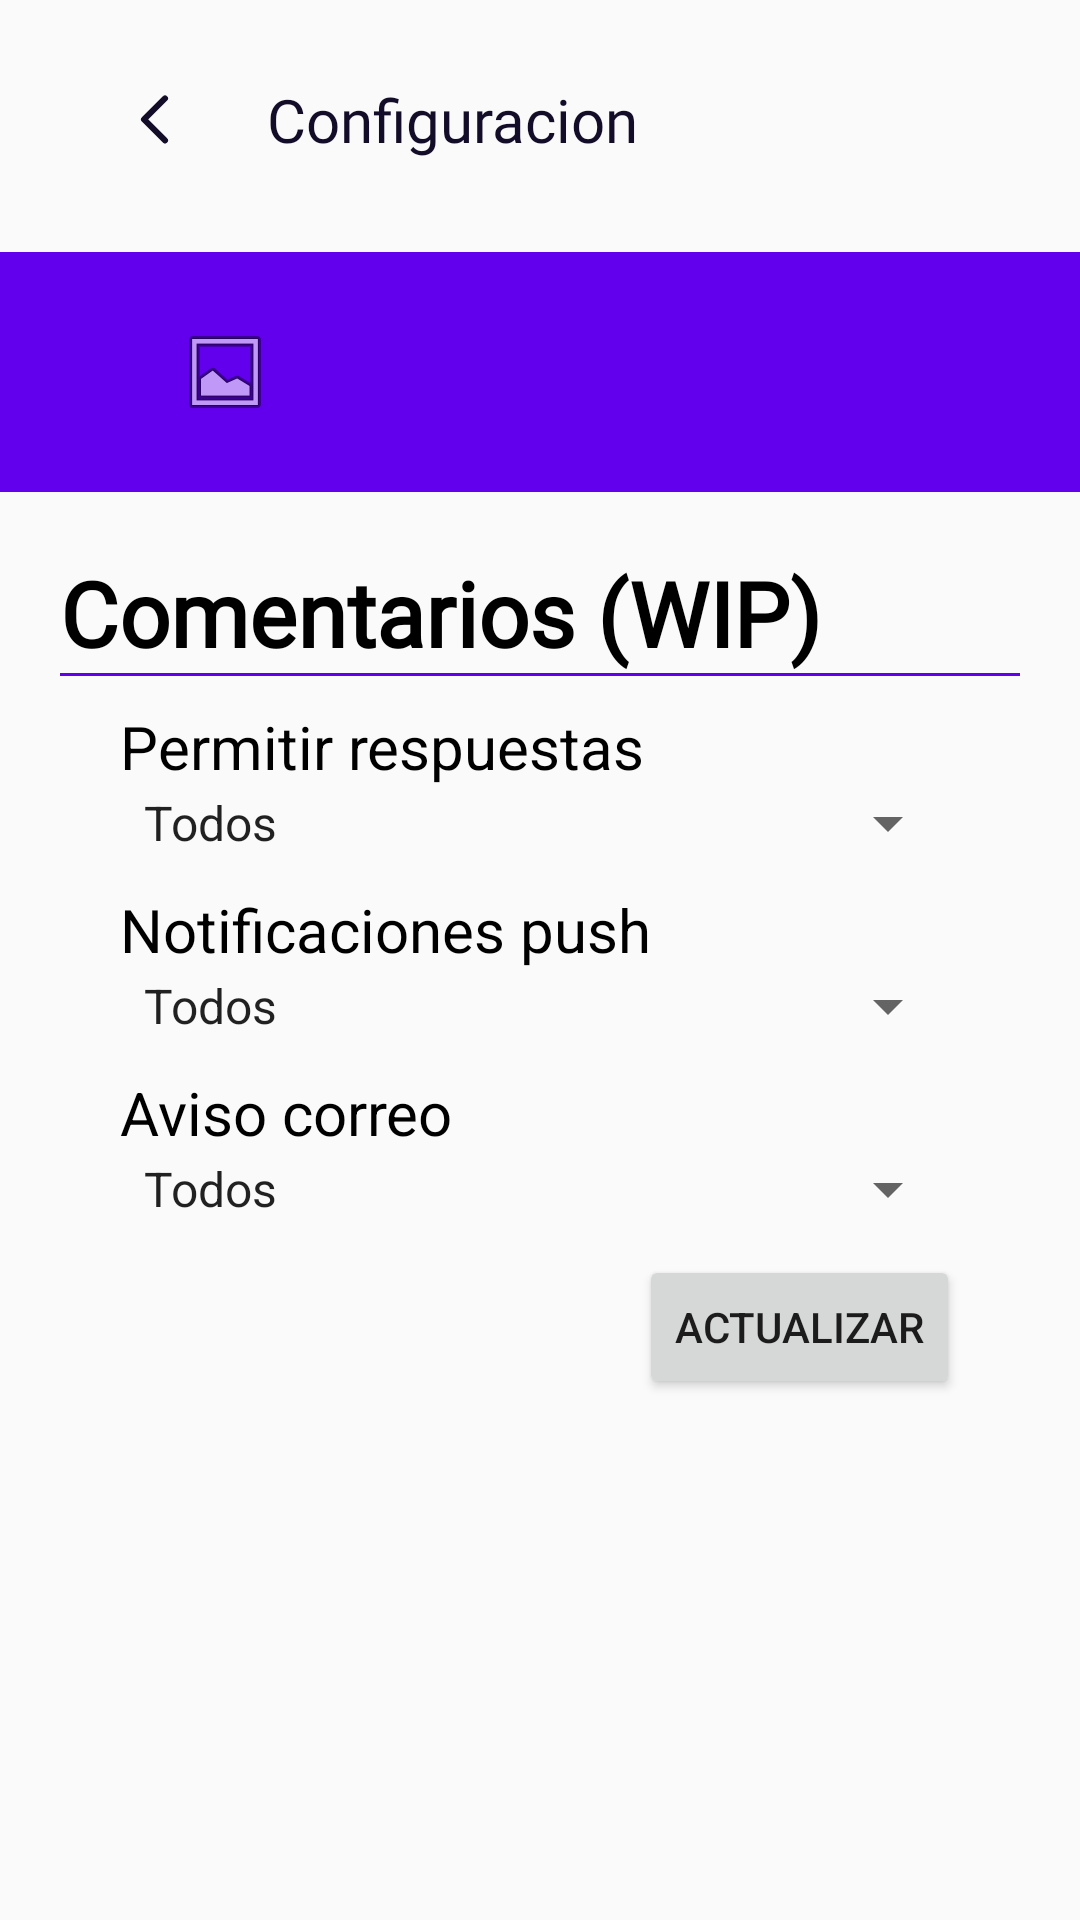

Icons on this 1080w x 1920h Android screen, each with the point to tap as (x=x, y=y):
flecha atras: (x=154, y=119)
gallery: (x=225, y=372)
